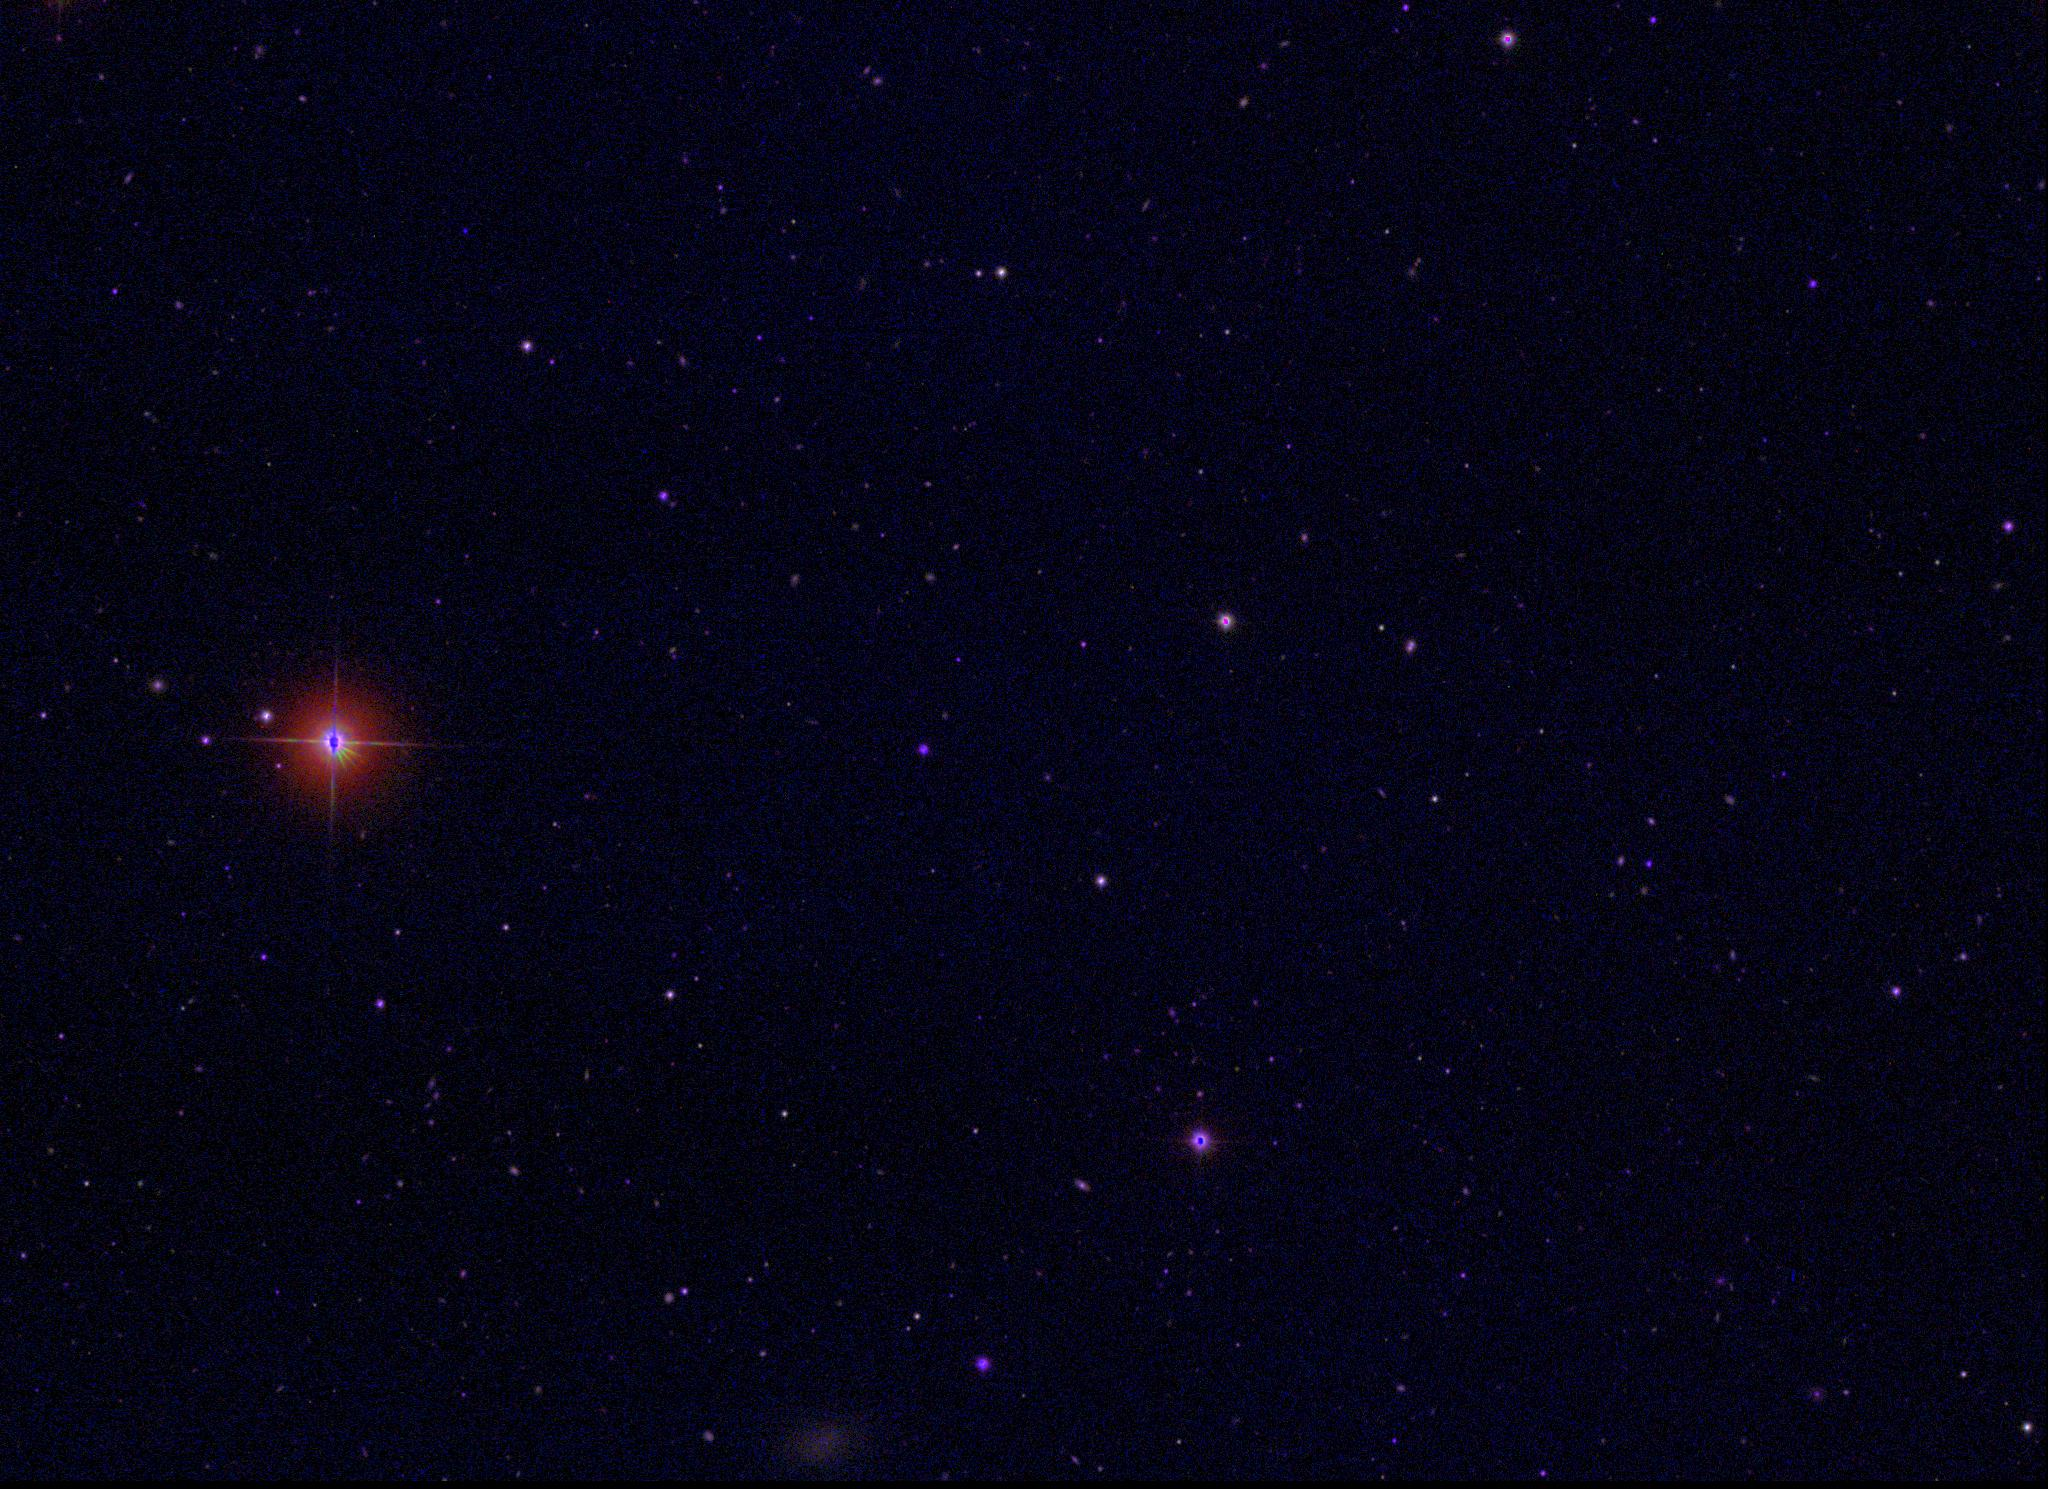L: (456, 223, 471, 237)
